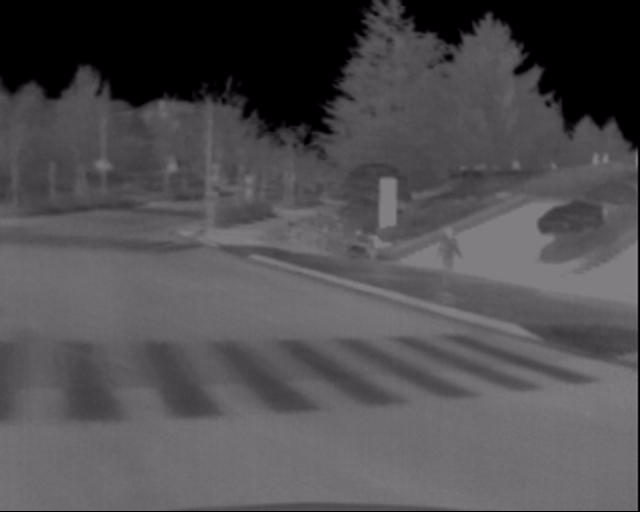person: (439, 221, 462, 294)
